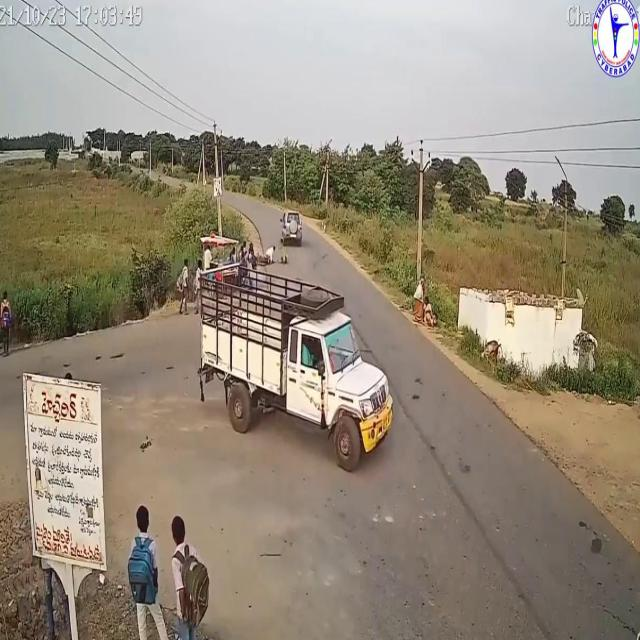accident: (253, 210, 304, 272)
